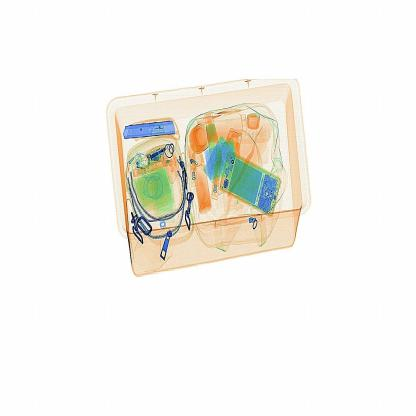pliers: (122, 118, 185, 152)
